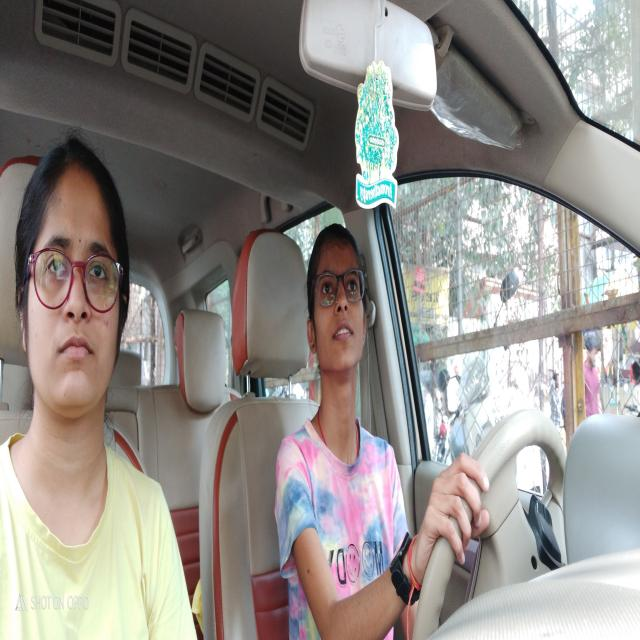person: (16, 150, 126, 414), (305, 228, 370, 387)
